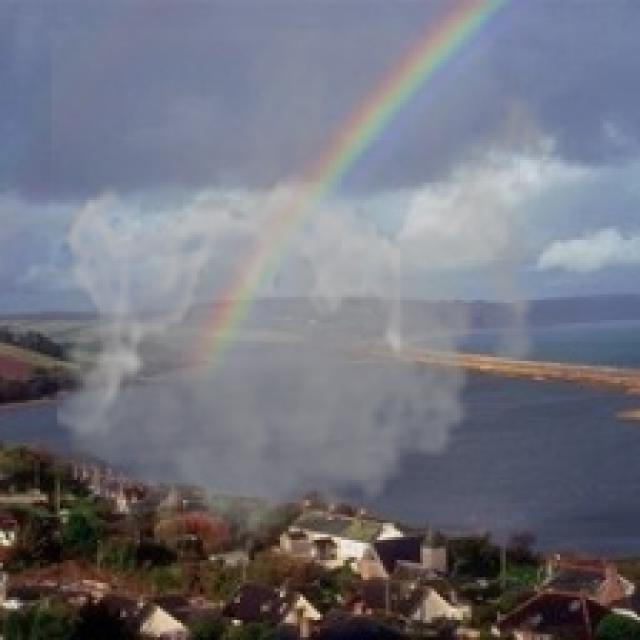smoke: (51, 29, 572, 577)
